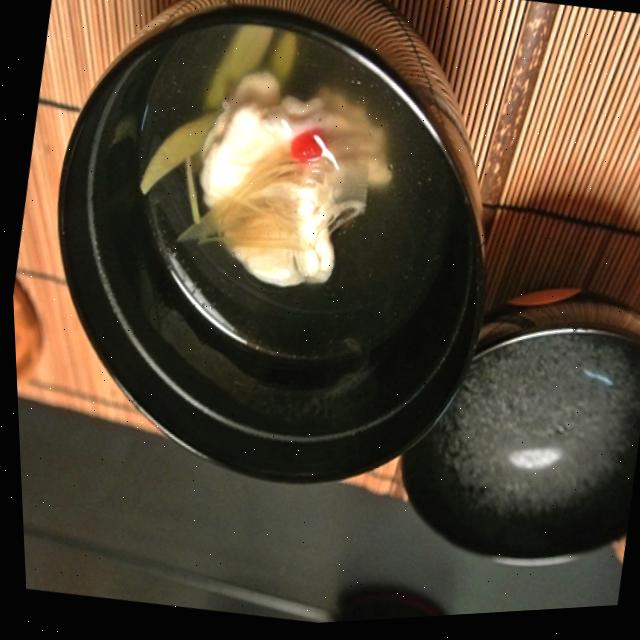汤锅炖物: (23, 0, 529, 522)
